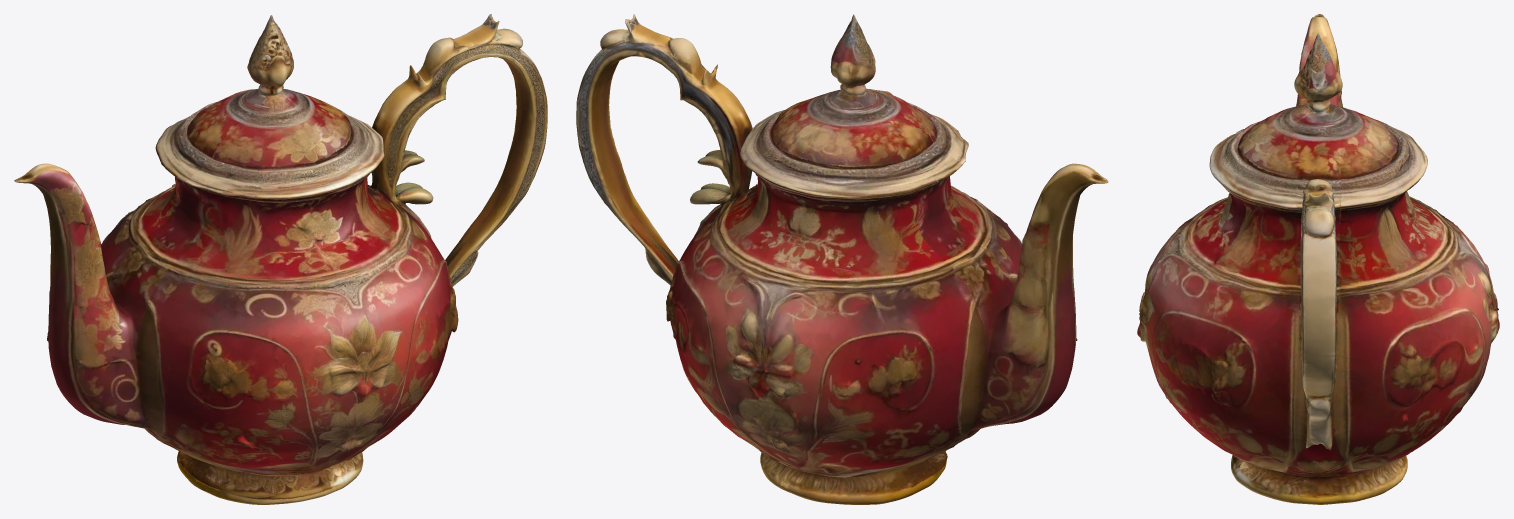
The picture shows the model from 3 angles, left to right: view 1: azimuth 30°, elevation 25°; view 2: azimuth 150°, elevation 25°; view 3: azimuth 270°, elevation 25°; orthographic projection. The views are drawn at different scales.
Visible parts, largest first — view 1: Mesh_0; view 2: Mesh_0; view 3: Mesh_0.
Part boxes in pixels (x1=…): Mesh_0: x1=14, y1=14, x2=547, y2=504; Mesh_0: x1=576, y1=14, x2=1108, y2=504; Mesh_0: x1=1137, y1=14, x2=1499, y2=504.
Size of the model in its own units: 2 by 1.65 by 1.24.
Materials: 1 (1 with a texture image).
